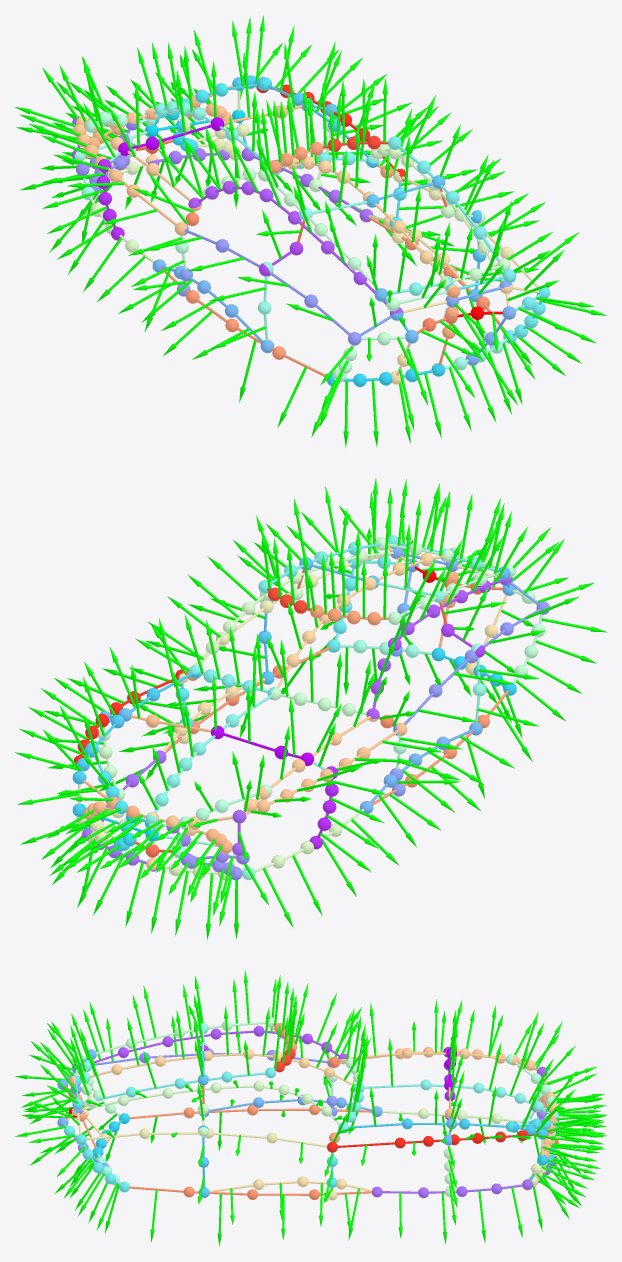
File: ils_car2.gltf
The picture shows the model from 3 angles, top to bottom: view 1: azimuth 30°, elevation 25°; view 2: azimuth 150°, elevation 25°; view 3: azimuth 270°, elevation 25°; orthographic projection. The views are drawn at different scales.
Size of the model in its own units: 0.5818 by 0.4118 by 1.09.
